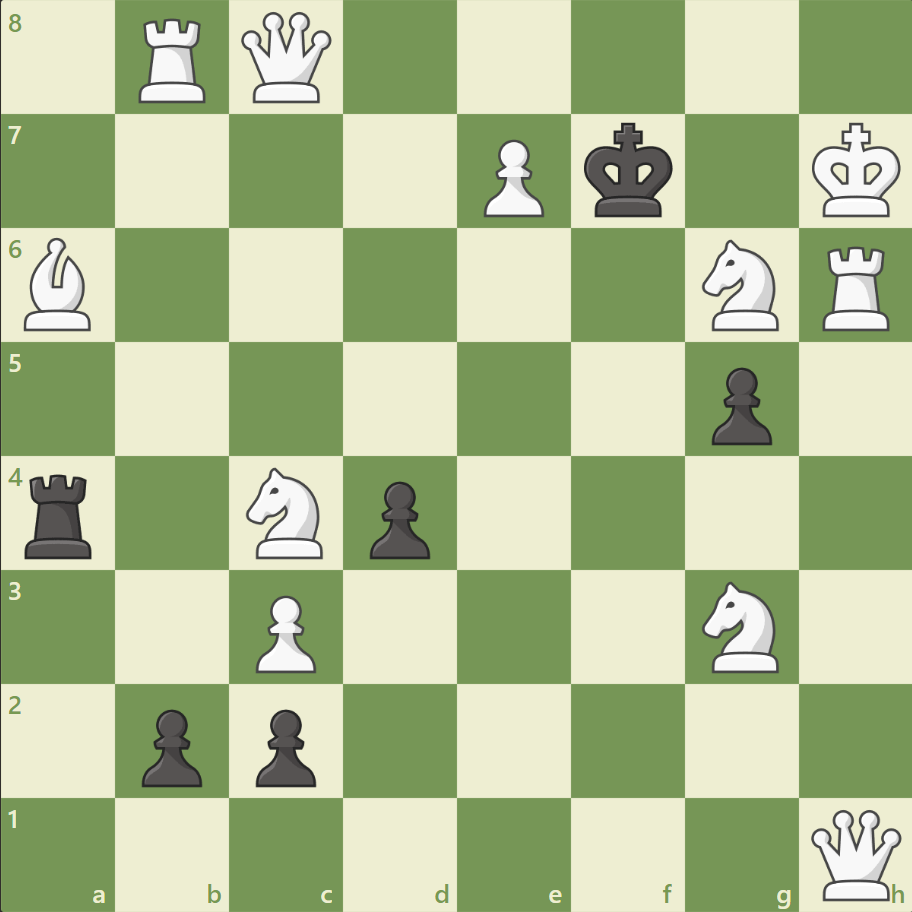B: (17, 233, 101, 336)
K: (806, 117, 906, 225)
N: (692, 234, 789, 337), (238, 461, 335, 564), (692, 575, 789, 677)
P: (474, 132, 549, 223), (247, 586, 322, 677)
Q: (237, 9, 336, 108), (805, 804, 904, 903)
R: (814, 239, 897, 336), (133, 12, 215, 109)
k: (579, 117, 679, 225)
p: (701, 359, 776, 450), (133, 700, 208, 791), (247, 700, 322, 791), (361, 473, 435, 564)
r: (19, 466, 102, 563)
